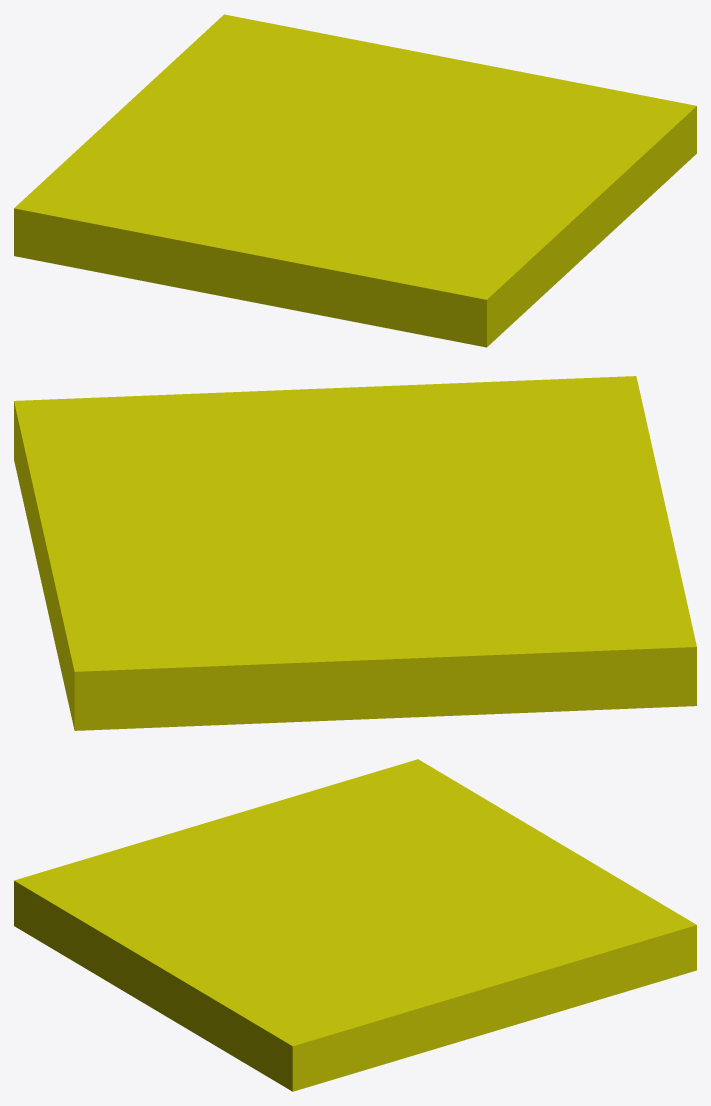
Rendered from Tunnel_down.dae.
3 views of the same model, one above another, from view 1: azimuth 30°, elevation 25°; view 2: azimuth 150°, elevation 25°; view 3: azimuth 270°, elevation 25° (orthographic). The views are drawn at different scales.
Parts seen in each view (by area): view 1: Cube; view 2: Cube; view 3: Cube.
Part boxes in pixels (x1,y1,x2,y2): Cube: (14,14,696,347); Cube: (14,376,696,730); Cube: (14,759,696,1091).
Size of the model in its own units: 16.86 by 16.95 by 1.25.
